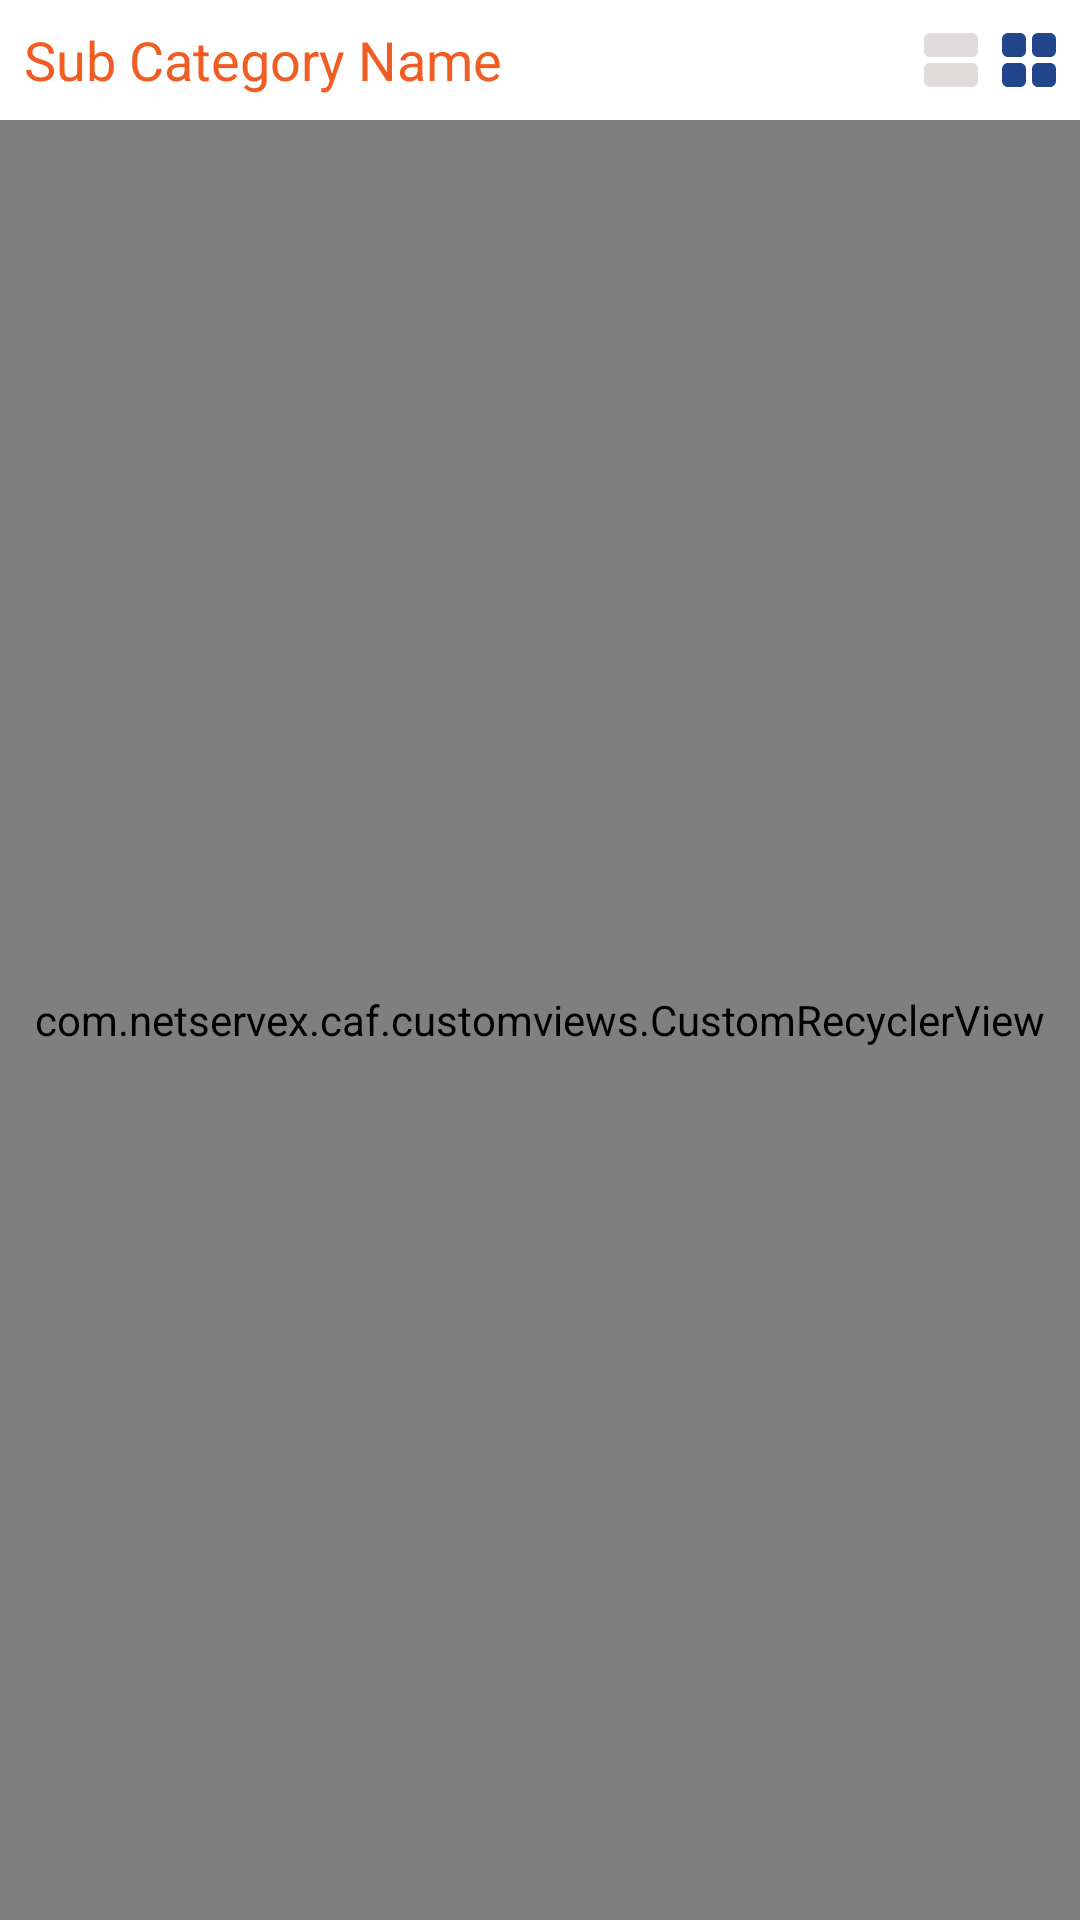

Icons on this 1080 x 1920 Android screen, each with its box as bbox=(x1, y1, x2, y2):
grid: bbox=(1002, 33, 1056, 87)
